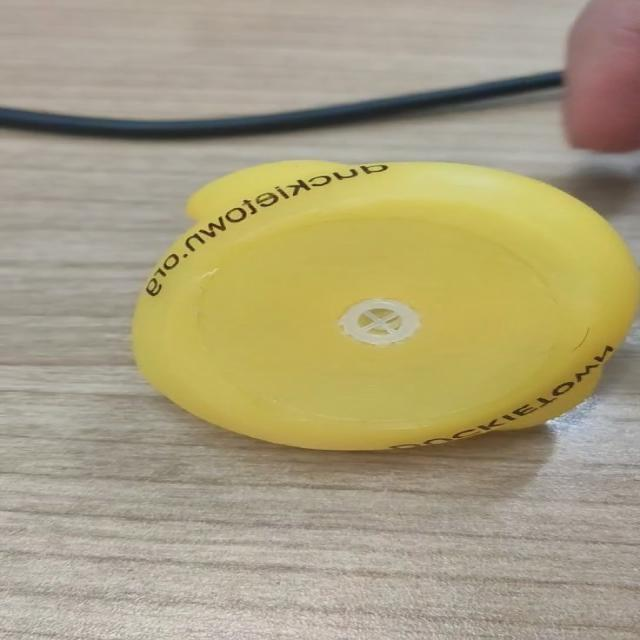rubber-duck: (132, 160, 638, 448)
